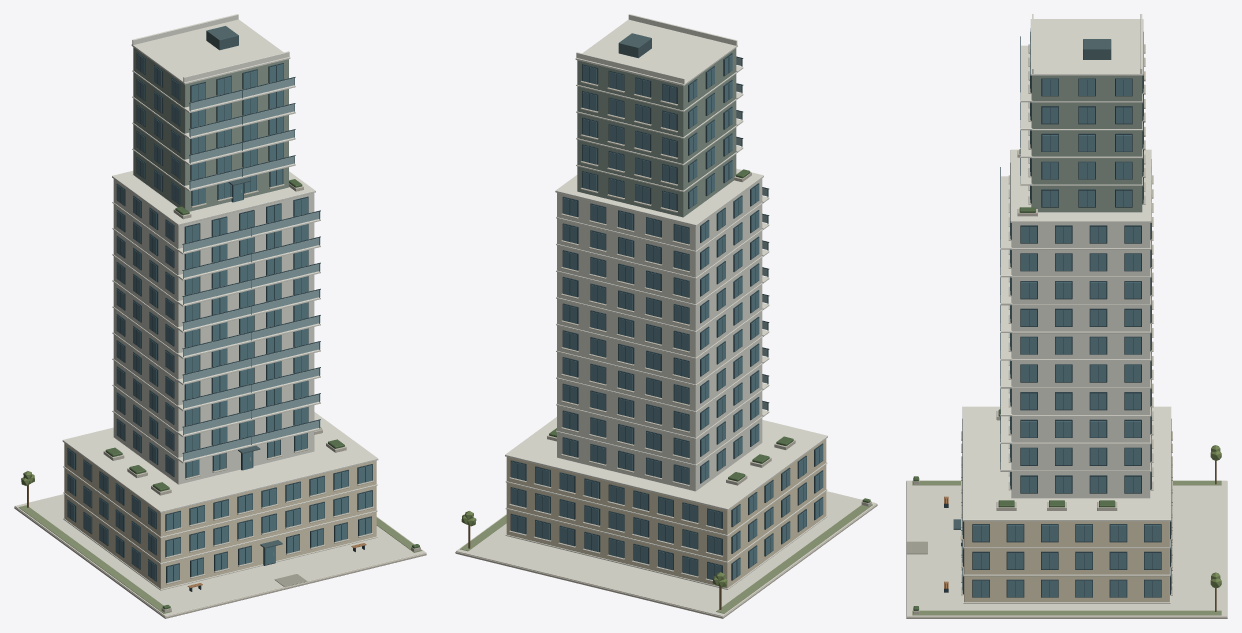
Rendered from large-8x8-b.glb.
3 views of the same model, side by side, from view 1: azimuth 30°, elevation 25°; view 2: azimuth 150°, elevation 25°; view 3: azimuth 270°, elevation 25° (orthographic). The views are drawn at different scales.
Visible parts, largest first — view 1: BuildingBody.001, BuildingBody, LotTop, RoofCap, BuildingBody.002, RoofCap.002, RoofCap.001, GrassSide, LotBase, BalconyGlass.001, BalconyGlass.008, BalconyGlass.003 (+16 smaller); view 2: BuildingBody.001, BuildingBody, BuildingBody.002, LotTop, RoofCap, RoofCap.002, RoofCap.001, GrassSide, LotBase, RoofParapet, RoofParapet.001, FloorBand.001 (+3 smaller); view 3: BuildingBody.001, LotTop, BuildingBody, BuildingBody.002, RoofCap, RoofCap.002, RoofCap.001, GrassSide.001, LotBase, BalconySlab.008, FloorBand.001, RoofMechanical (+2 smaller).
Part boxes in pixels (x1=…): BuildingBody.001: x1=113, y1=179, x2=314, y2=484; BuildingBody: x1=64, y1=443, x2=376, y2=588; LotTop: x1=14, y1=494, x2=425, y2=616; RoofCap: x1=62, y1=412, x2=378, y2=513; BuildingBody.002: x1=133, y1=47, x2=288, y2=211; RoofCap.002: x1=131, y1=19, x2=290, y2=84; RoofCap.001: x1=112, y1=171, x2=315, y2=225; GrassSide: x1=18, y1=505, x2=171, y2=613; LotBase: x1=14, y1=506, x2=426, y2=618; BalconyGlass.001: x1=183, y1=394, x2=320, y2=434; BalconyGlass.008: x1=183, y1=211, x2=320, y2=251; BalconyGlass.003: x1=183, y1=342, x2=320, y2=382; BuildingBody.001: x1=557, y1=178, x2=762, y2=491; BuildingBody: x1=506, y1=439, x2=826, y2=588; BuildingBody.002: x1=577, y1=48, x2=736, y2=217; LotTop: x1=456, y1=491, x2=876, y2=616; RoofCap: x1=505, y1=417, x2=827, y2=510; RoofCap.002: x1=575, y1=19, x2=737, y2=86; RoofCap.001: x1=555, y1=168, x2=763, y2=226; GrassSide: x1=716, y1=504, x2=872, y2=613; LotBase: x1=455, y1=504, x2=877, y2=618; RoofParapet: x1=628, y1=14, x2=737, y2=45; RoofParapet.001: x1=576, y1=52, x2=684, y2=83; FloorBand.001: x1=505, y1=489, x2=827, y2=563; BuildingBody.001: x1=1011, y1=223, x2=1150, y2=498; LotTop: x1=906, y1=480, x2=1227, y2=616; BuildingBody: x1=964, y1=521, x2=1169, y2=602; BuildingBody.002: x1=1031, y1=75, x2=1142, y2=212; RoofCap: x1=962, y1=406, x2=1171, y2=521; RoofCap.002: x1=1030, y1=19, x2=1143, y2=75; RoofCap.001: x1=1010, y1=149, x2=1151, y2=222; GrassSide.001: x1=912, y1=610, x2=1221, y2=615; LotBase: x1=906, y1=481, x2=1227, y2=618; BalconySlab.008: x1=1000, y1=176, x2=1012, y2=249; FloorBand.001: x1=963, y1=567, x2=1170, y2=576; RoofMechanical: x1=1083, y1=39, x2=1111, y2=59.
Size of the model in its own units: 32 by 56.62 by 32.
